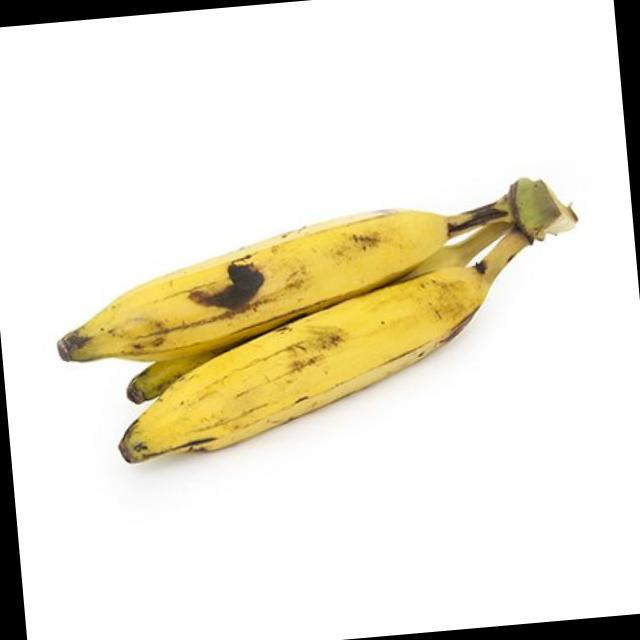banana: (107, 264, 523, 471), (46, 196, 474, 376)
